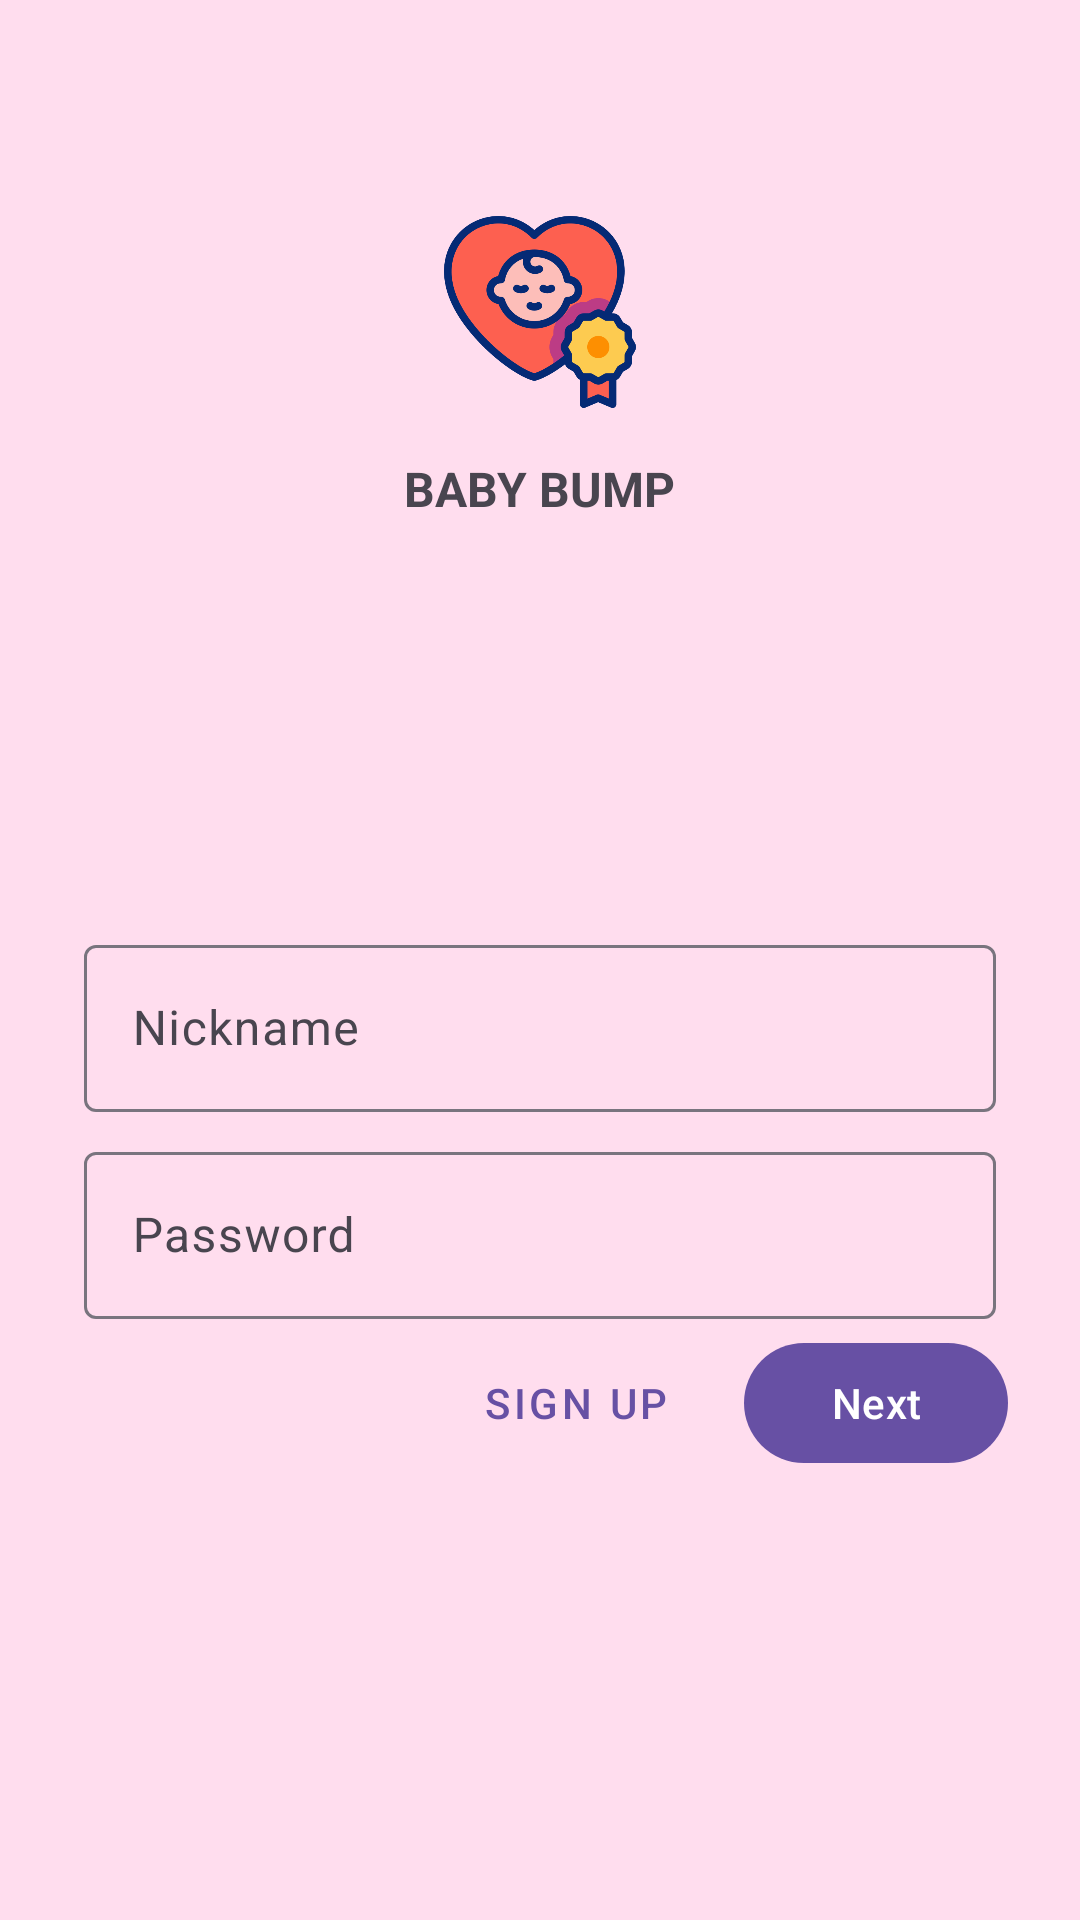

Icon click points for this 1080 × 1920 phone screenshot, format point (x, y):
certified: point (540, 312)
